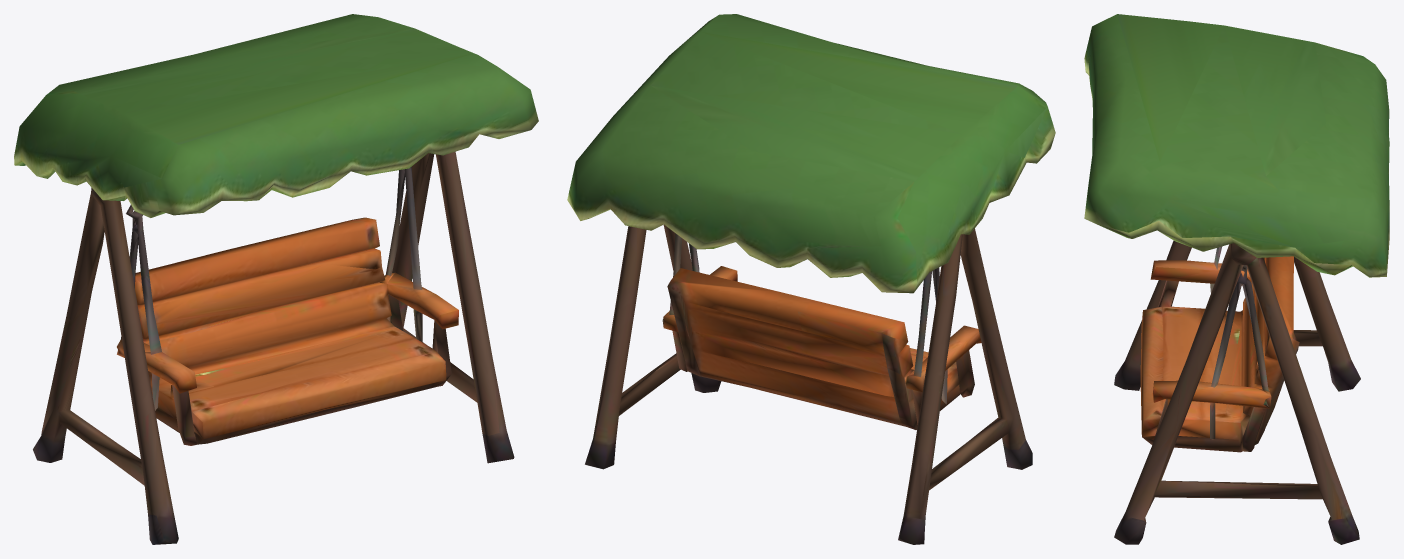
Rendered from swingseat.glb.
3 renders of one model, left to right at view 1: azimuth 30°, elevation 25°; view 2: azimuth 150°, elevation 25°; view 3: azimuth 270°, elevation 25°, orthographic. The views are drawn at different scales.
Visible parts, largest first — view 1: model; view 2: model; view 3: model.
Boxes of the visible parts, left/top/right/bottom form: model: left=14, top=14, right=538, bottom=544; model: left=567, top=14, right=1055, bottom=544; model: left=1084, top=14, right=1389, bottom=544.
Bounding box in the file's own units: 1.89 × 1.89 × 1.38.
1 material, 1 textured.
